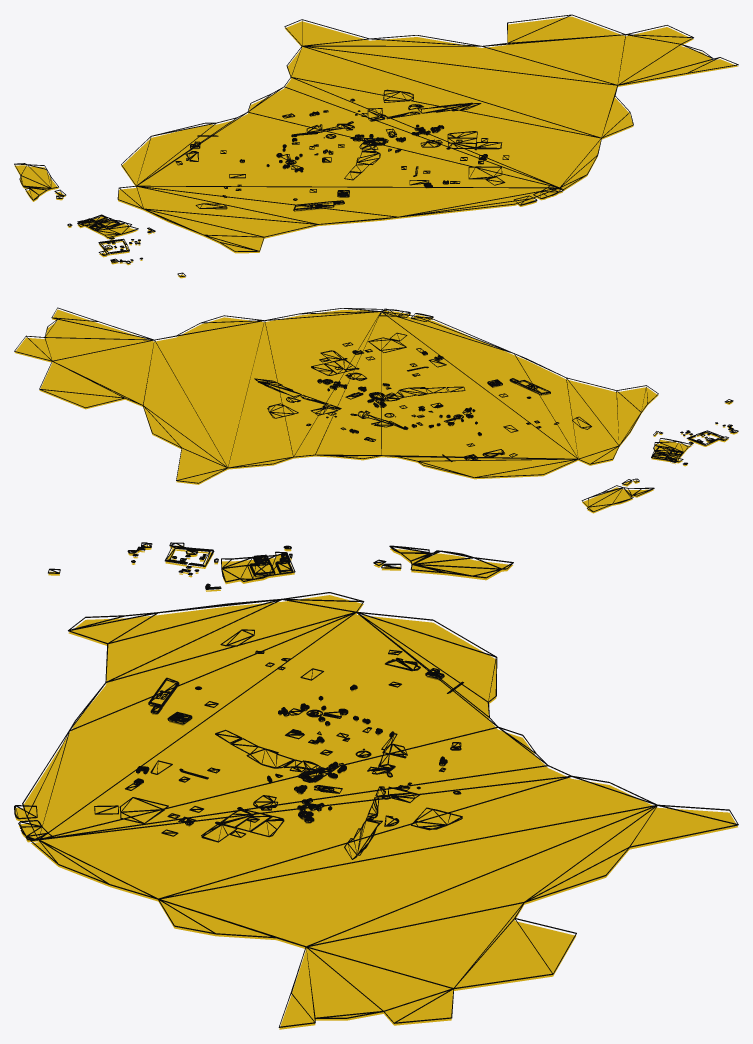
File: kalyani.glb
3 renders of one model, top to bottom at view 1: azimuth 30°, elevation 25°; view 2: azimuth 150°, elevation 25°; view 3: azimuth 270°, elevation 25°, orthographic. The views are drawn at different scales.
Visible parts, largest first — view 1: Kalyani City.001; view 2: Kalyani City.001; view 3: Kalyani City.001.
Boxes of the visible parts, x1,y1,x2,y2 form: Kalyani City.001: [14, 14, 738, 278]; Kalyani City.001: [14, 307, 738, 513]; Kalyani City.001: [14, 542, 738, 1029].
Size of the model in its own units: 0.5682 by 0.00262 by 0.359.
